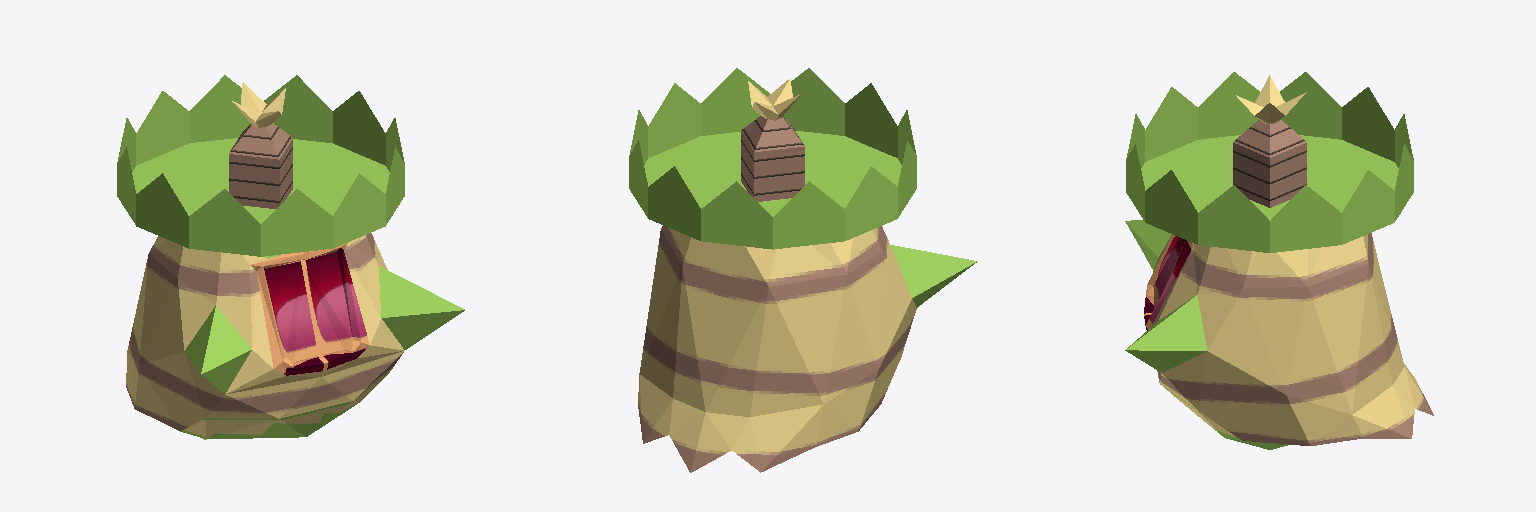
3 views of the same model, side by side, from view 1: azimuth 30°, elevation 25°; view 2: azimuth 150°, elevation 25°; view 3: azimuth 270°, elevation 25° (orthographic).
Parts seen in each view (by area): view 1: merged_0_0_node, merged_1_0_node, merged_2_0_node, merged_3_0_node; view 2: merged_1_0_node, merged_0_0_node, merged_3_0_node; view 3: merged_1_0_node, merged_0_0_node, merged_3_0_node, merged_2_0_node.
Boxes of the visible parts, x1,y1,x2,y2 form: merged_0_0_node: [117, 75, 464, 439]; merged_1_0_node: [126, 233, 404, 430]; merged_2_0_node: [251, 243, 369, 375]; merged_3_0_node: [229, 123, 292, 208]; merged_1_0_node: [638, 226, 916, 472]; merged_0_0_node: [629, 68, 977, 307]; merged_3_0_node: [741, 116, 804, 201]; merged_1_0_node: [1151, 233, 1433, 445]; merged_0_0_node: [1125, 72, 1413, 449]; merged_3_0_node: [1233, 120, 1306, 207]; merged_2_0_node: [1144, 235, 1192, 330].
Size of the model in its own units: 0.8207 by 0.986 by 0.8311.
Materials: 5 (5 with a texture image).